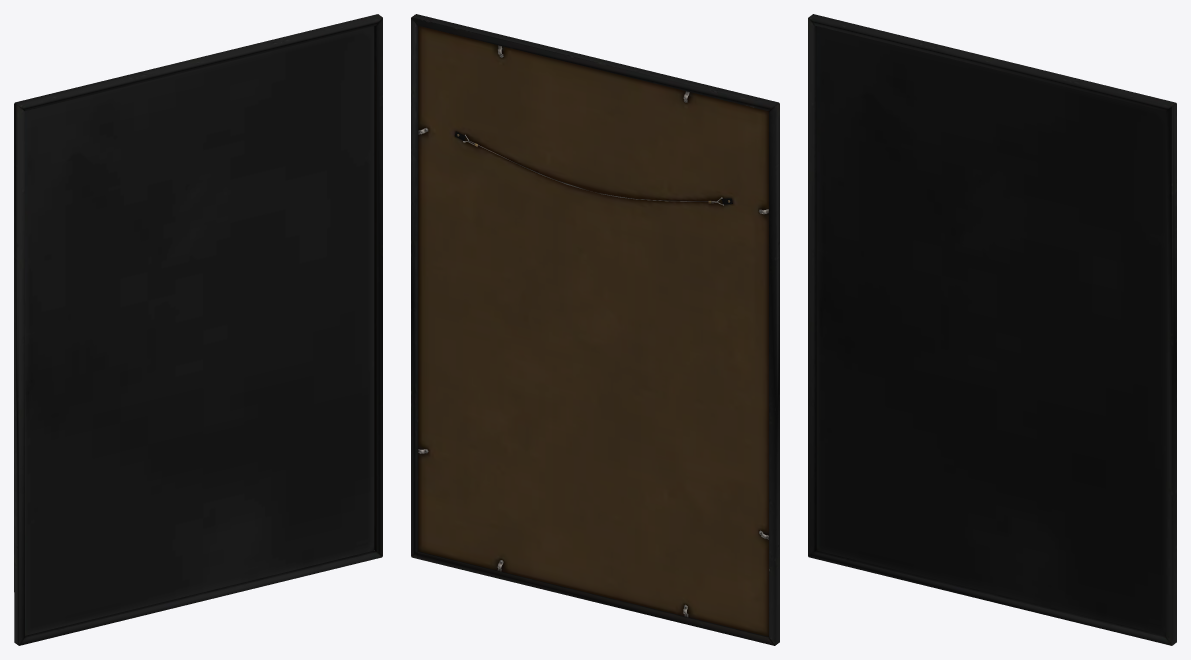
File: pictureFrame.glb
3 renders of one model, left to right at view 1: azimuth 30°, elevation 25°; view 2: azimuth 150°, elevation 25°; view 3: azimuth 330°, elevation 25°, orthographic.
Parts seen in each view (by area): view 1: hanging_picture_frame_01; view 2: hanging_picture_frame_01; view 3: hanging_picture_frame_01.
Boxes of the visible parts, <box> form: hanging_picture_frame_01: <box>14,14,382,645</box>; hanging_picture_frame_01: <box>411,14,779,645</box>; hanging_picture_frame_01: <box>808,14,1176,645</box>.
Bounding box in the file's own units: 0.5938 × 0.841 × 0.0154.
Materials: 3 (3 with a texture image).
